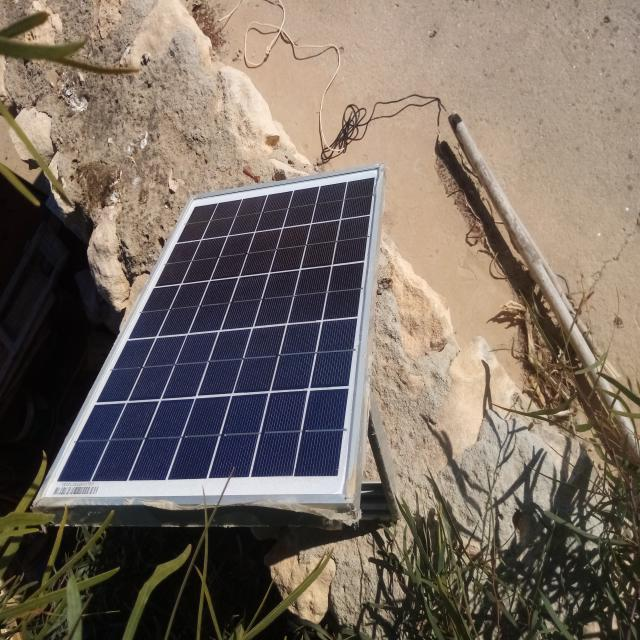Normal Solar Panel: (34, 166, 382, 507)
